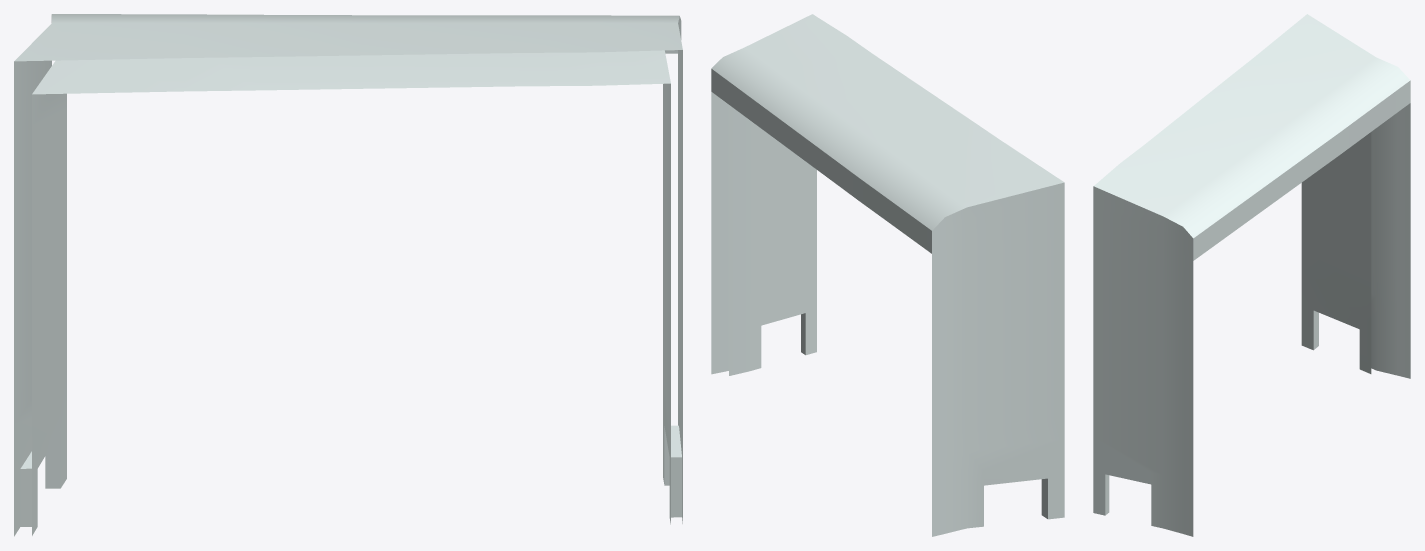
Rendered from Solaris02.FBX.
The picture shows the model from 3 angles, left to right: view 1: azimuth 30°, elevation 25°; view 2: azimuth 150°, elevation 25°; view 3: azimuth 270°, elevation 25°; orthographic projection. The views are drawn at different scales.
Parts seen in each view (by area): view 1: Object034; view 2: Object034; view 3: Object034.
Part boxes in pixels (x1,y1,x2,y2): Object034: (14, 14, 682, 536); Object034: (711, 14, 1064, 536); Object034: (1093, 14, 1410, 536).
Size of the model in its own units: 11646 by 9058 by 7961.
